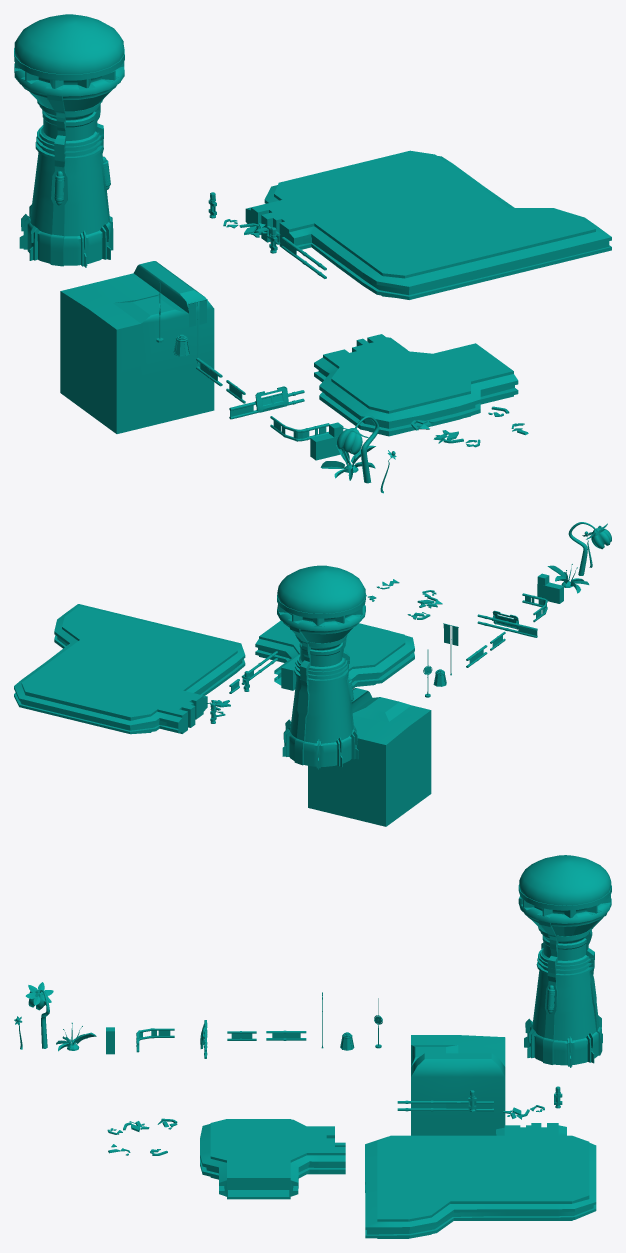
The model's file is foreground seperated.fbx.
3 views of the same model, one above another, from view 1: azimuth 30°, elevation 25°; view 2: azimuth 150°, elevation 25°; view 3: azimuth 270°, elevation 25° (orthographic). The views are drawn at different scales.
Parts seen in each view (by area): view 1: front_plat_main, polySurface91, base, front_plat_small, bloom, rubble_small, fern, Crate_B, shield; view 2: front_plat_main, base, polySurface91, front_plat_small, bloom, rubble_small, fencing_long_shield, Crate_B; view 3: front_plat_main, base, front_plat_small, polySurface91, bloom, rubble_small, fence_longest.
Boxes of the visible parts, bbox=[...] form: front_plat_main: bbox=[245, 150, 611, 299]; polySurface91: bbox=[60, 261, 214, 433]; base: bbox=[14, 14, 124, 267]; front_plat_small: bbox=[314, 334, 518, 436]; bloom: bbox=[337, 415, 379, 483]; rubble_small: bbox=[411, 406, 528, 447]; fern: bbox=[320, 445, 375, 480]; Crate_B: bbox=[310, 433, 340, 460]; shield: bbox=[254, 386, 288, 412]; front_plat_main: bbox=[14, 604, 245, 734]; base: bbox=[277, 565, 365, 769]; polySurface91: bbox=[308, 688, 431, 826]; front_plat_small: bbox=[255, 620, 414, 690]; bloom: bbox=[568, 522, 611, 575]; rubble_small: bbox=[366, 579, 442, 619]; fencing_long_shield: bbox=[477, 614, 537, 637]; Crate_B: bbox=[537, 582, 563, 603]; front_plat_main: bbox=[365, 1123, 596, 1238]; base: bbox=[518, 855, 611, 1067]; front_plat_small: bbox=[200, 1119, 345, 1199]; polySurface91: bbox=[411, 1035, 505, 1135]; bloom: bbox=[25, 982, 53, 1048]; rubble_small: bbox=[107, 1118, 177, 1155]; fence_longest: bbox=[397, 1100, 468, 1111].
Size of the model in its own units: 27.19 by 18.18 by 35.27.
